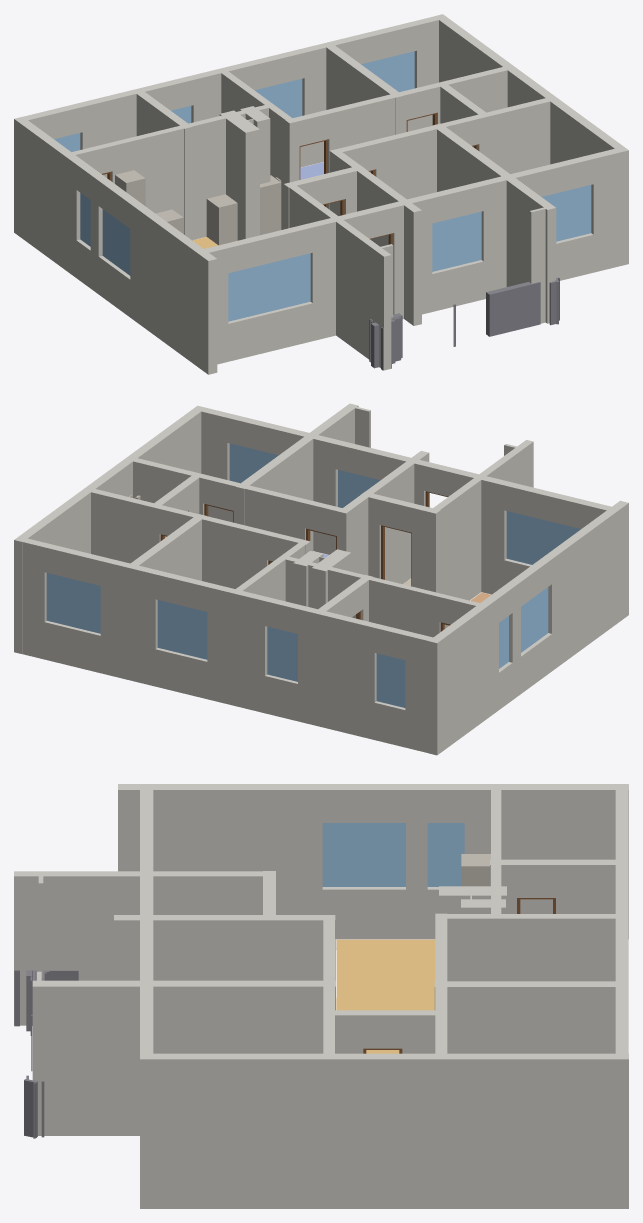
The picture shows the model from 3 angles, top to bottom: view 1: azimuth 30°, elevation 25°; view 2: azimuth 150°, elevation 25°; view 3: azimuth 270°, elevation 25°; orthographic projection. The views are drawn at different scales.
Visible parts, largest first — view 1: walls, railings, window_7, window_2, window_0, furniture_7_appliance, window_4, window_1, furniture_12_fireplace, window_3, furniture_0_closet, window_16; view 2: walls, window_1, window_7, window_3, window_9, window_6, window_4, window_0, window_2; view 3: walls, floor_4_Kitchen, window_4, railings, window_16, furniture_0_closet.
Boxes of the visible parts, x1,y1,x2,y2 form: walls: (14, 14, 628, 374); railings: (369, 277, 559, 370); window_7: (228, 253, 310, 321); window_2: (432, 211, 481, 271); window_0: (542, 185, 591, 241); furniture_7_appliance: (206, 194, 237, 245); window_4: (102, 209, 130, 275); window_1: (361, 51, 414, 92); furniture_12_fireplace: (260, 175, 281, 235); window_3: (255, 79, 302, 118); furniture_0_closet: (115, 170, 145, 205); window_16: (80, 193, 90, 246); walls: (14, 403, 628, 755); window_1: (46, 573, 100, 633); window_7: (506, 511, 580, 564); window_3: (157, 600, 207, 659); window_9: (267, 626, 297, 681); window_6: (376, 653, 405, 707); window_4: (521, 587, 548, 652); window_0: (229, 443, 278, 483); window_2: (338, 470, 380, 507); walls: (14, 784, 628, 1208); floor_4_Kitchen: (336, 939, 435, 1053); window_4: (322, 823, 405, 886); railings: (14, 970, 78, 1138); window_16: (427, 823, 464, 886); furniture_0_closet: (461, 854, 490, 886).
Size of the model in its own units: 10.65 by 2.72 by 10.06.
